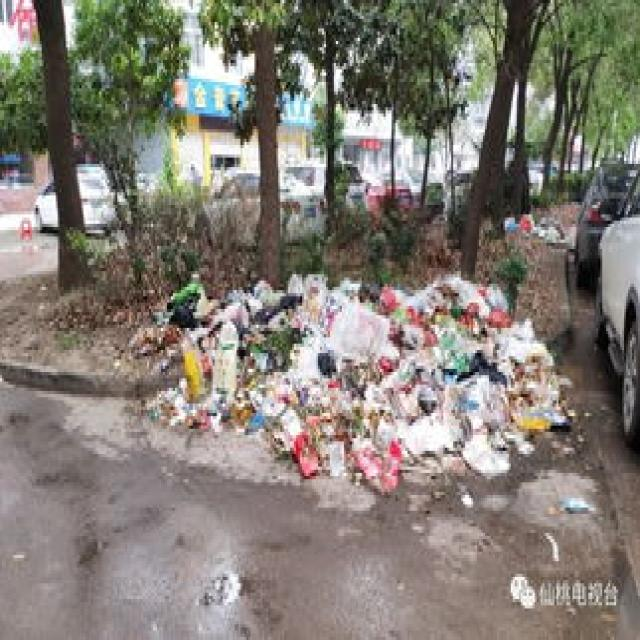garbage: (132, 268, 572, 489)
